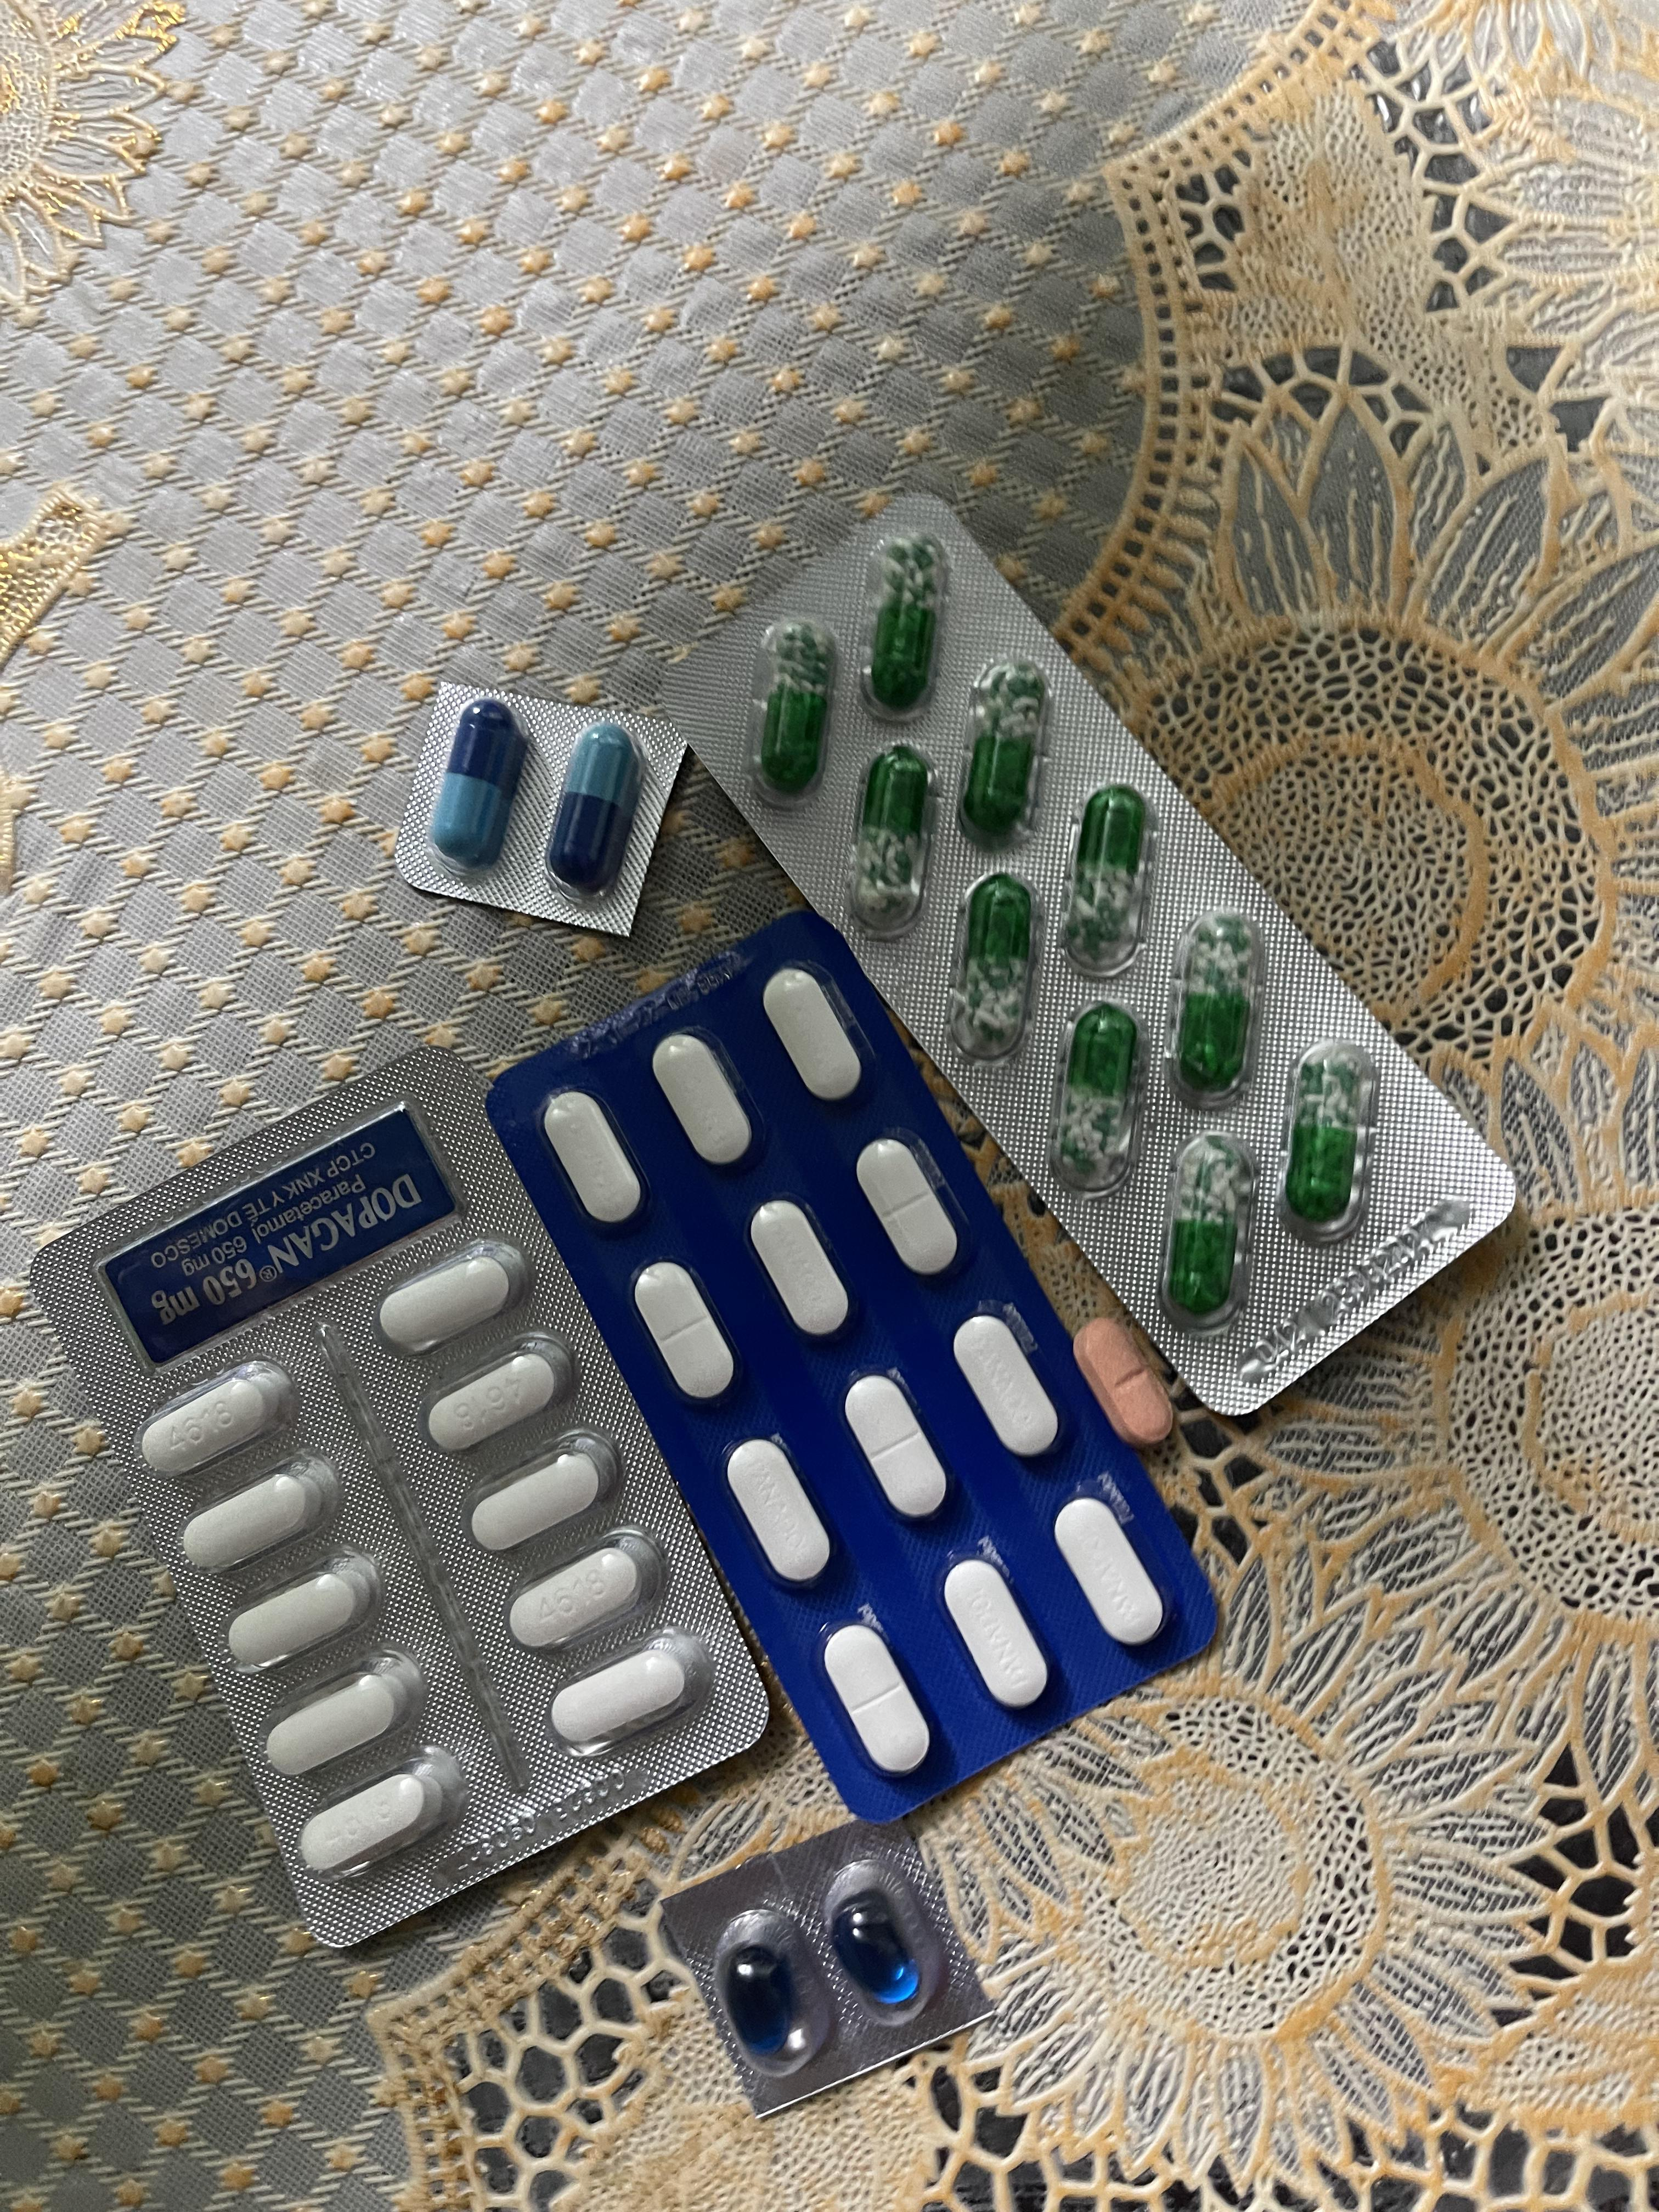Lincomyxin_500mg: (831, 1898, 918, 2005), (721, 1946, 798, 2057)
Loratadine_10mg: (1073, 1315, 1164, 1442)
Paracetamol_350mg: (1053, 1496, 1162, 1651), (823, 1622, 931, 1777), (943, 1555, 1051, 1709), (727, 1439, 833, 1585), (953, 1312, 1060, 1458), (843, 1372, 945, 1517), (634, 1263, 737, 1400), (857, 1139, 962, 1273), (749, 1202, 850, 1336), (762, 967, 864, 1097), (653, 1031, 756, 1162), (542, 1090, 645, 1221)
Paracetamol_500mg: (507, 1519, 659, 1649), (138, 1359, 295, 1477), (225, 1554, 380, 1672), (263, 1662, 415, 1777), (296, 1766, 444, 1881), (422, 1346, 566, 1458), (547, 1642, 692, 1749), (178, 1467, 322, 1573), (467, 1451, 605, 1557), (378, 1252, 516, 1353)
Paracetamol_650mg: (1279, 1047, 1377, 1235), (1155, 1134, 1248, 1324), (1166, 911, 1255, 1092), (1049, 1007, 1138, 1186), (960, 664, 1047, 836), (863, 535, 946, 714), (948, 885, 1035, 1052), (847, 752, 932, 921), (1061, 794, 1147, 960), (755, 625, 835, 792)
pill: (434, 698, 532, 873), (547, 721, 643, 894)
